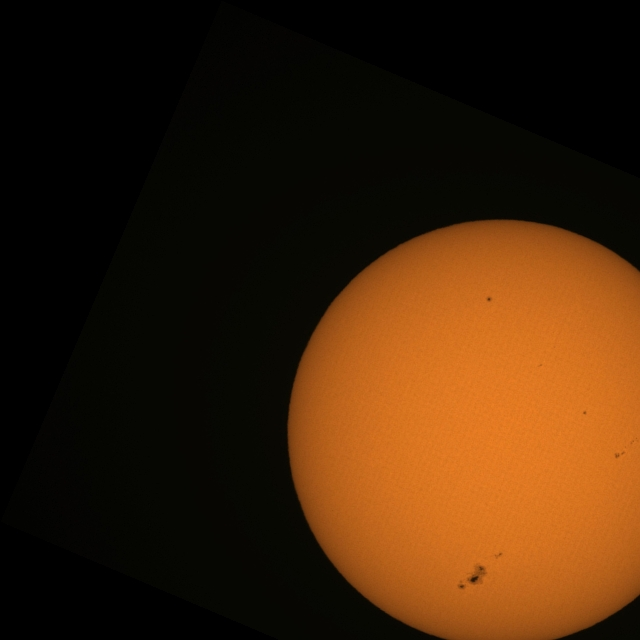sunspot: (456, 562, 488, 590), (612, 436, 638, 458), (614, 450, 626, 458), (630, 436, 639, 445), (494, 551, 502, 560), (486, 296, 492, 303), (582, 410, 588, 416), (537, 363, 543, 368)
